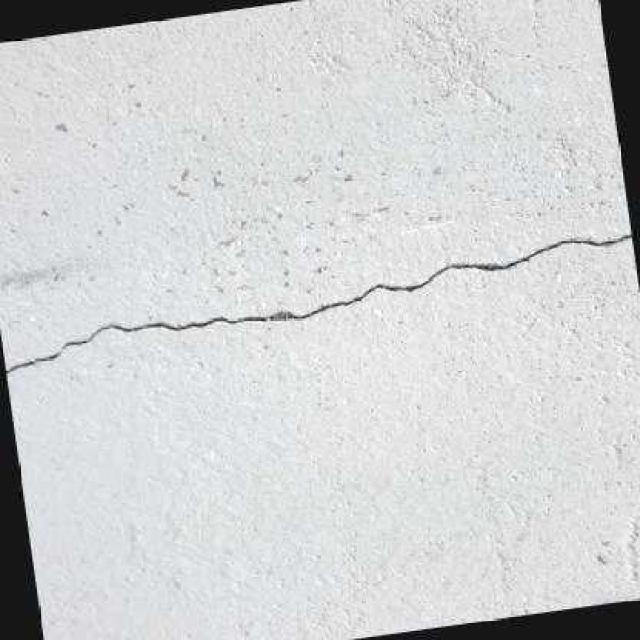D00: (4, 232, 632, 374)
